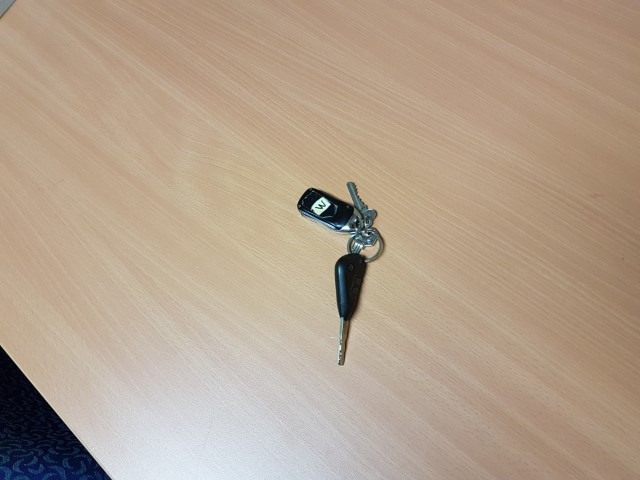key: (332, 255, 369, 365)
